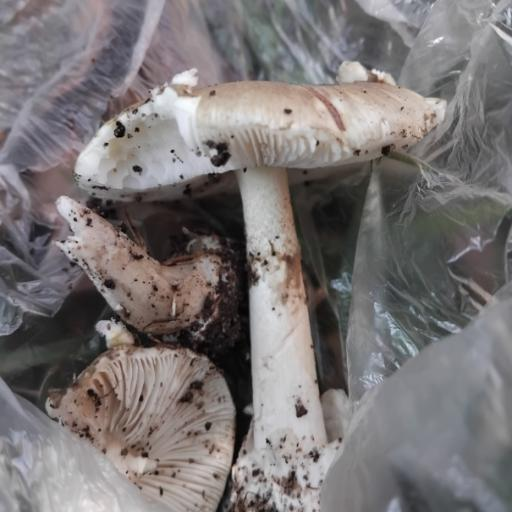mushroom: (0, 14, 441, 512), (44, 205, 263, 361), (0, 1, 1, 1)
